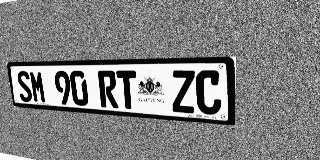0: (69, 71, 89, 106)
9: (54, 71, 73, 105)
C: (196, 70, 221, 115)
M: (29, 71, 47, 103)
R: (97, 71, 119, 108)
S: (16, 71, 33, 102)
T: (116, 71, 138, 110)
Z: (171, 70, 196, 114)
